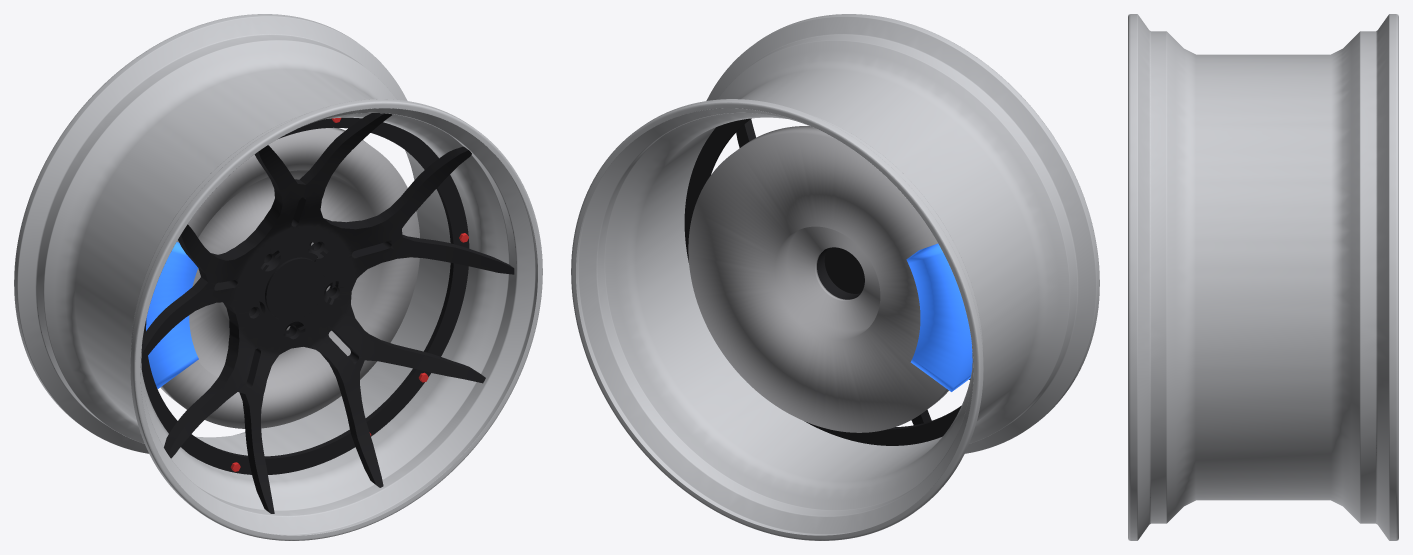
File: stf399-rear.glb
The picture shows the model from 3 angles, left to right: view 1: azimuth 30°, elevation 25°; view 2: azimuth 150°, elevation 25°; view 3: azimuth 270°, elevation 25°; orthographic projection. The views are drawn at different scales.
Visible parts, largest first — view 1: Rim_Barrel, Rim_Face_Spokes, Brake_Rotor, Brake_Caliper, Center_Cap; view 2: Rim_Barrel, Brake_Rotor, Brake_Caliper, Rim_Face_Spokes, Center_Cap; view 3: Rim_Barrel.
Boxes of the visible parts, x1,y1,x2,y2 form: Rim_Barrel: [14, 14, 542, 540]; Rim_Face_Spokes: [141, 113, 514, 513]; Brake_Rotor: [160, 127, 419, 428]; Brake_Caliper: [146, 242, 198, 388]; Center_Cap: [265, 257, 324, 321]; Rim_Barrel: [571, 14, 1099, 540]; Brake_Rotor: [688, 126, 948, 432]; Brake_Caliper: [906, 243, 972, 391]; Rim_Face_Spokes: [684, 118, 970, 445]; Center_Cap: [824, 247, 864, 293]; Rim_Barrel: [1128, 14, 1398, 540].
Size of the model in its own units: 0.5436 by 0.5435 by 0.2794.
